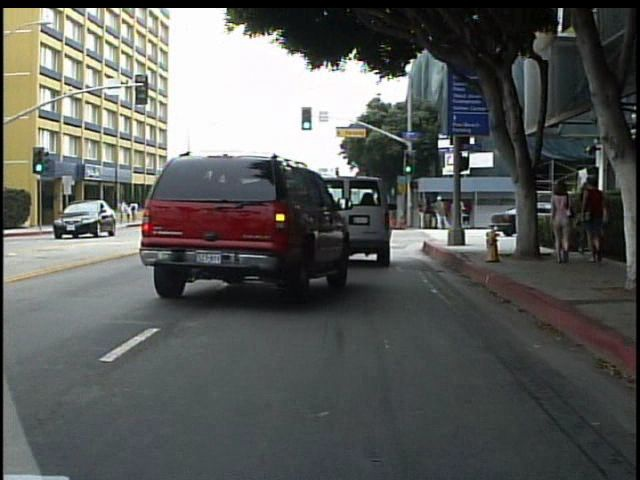person: (582, 174, 613, 266), (545, 177, 576, 268), (433, 193, 448, 231), (76, 198, 93, 226)
